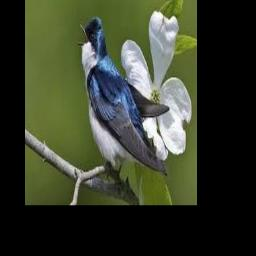Swallow: (77, 16, 169, 180)
